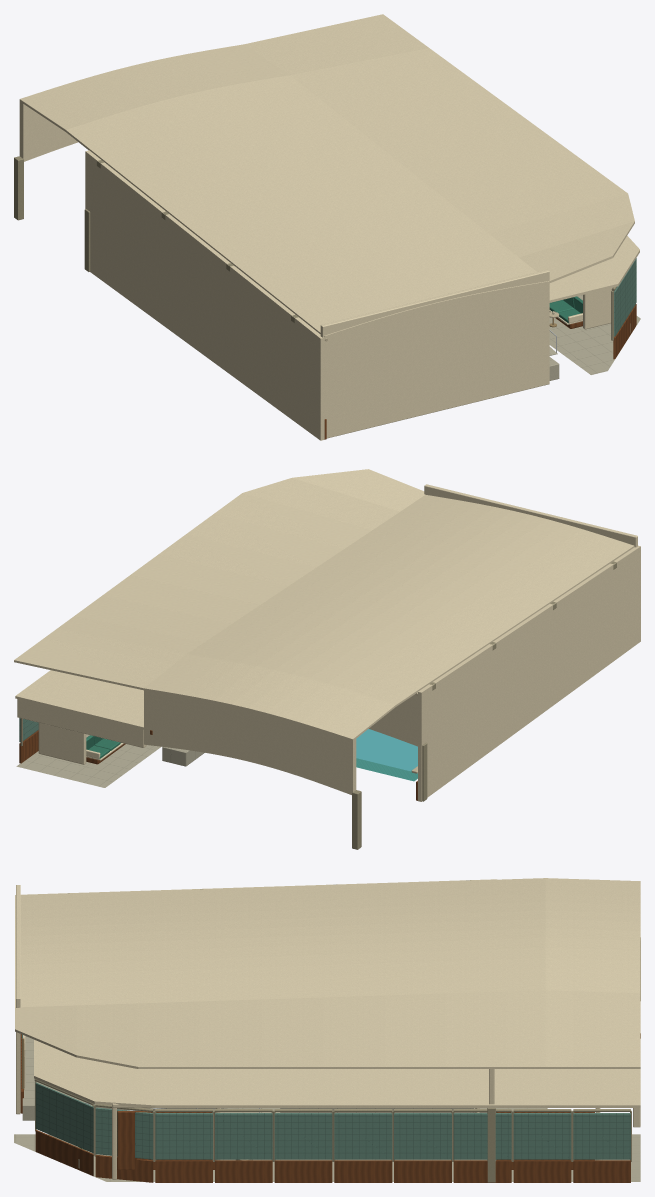
Rendered from FRESH_SELECTED_REEXPORT008.glb.
The picture shows the model from 3 angles, top to bottom: view 1: azimuth 30°, elevation 25°; view 2: azimuth 150°, elevation 25°; view 3: azimuth 270°, elevation 25°; orthographic projection. The views are drawn at different scales.
Visible parts, largest first — view 1: G6_TIDAL__north_room_return, G6_TIDAL__west_room_return_0, G6_TIDAL__vault_infill_0, G6_TIDAL__vault_infill_3, G6_TIDAL__vault_infill_5, G6_TIDAL__vault_infill_1, G6_TIDAL__vault_infill_4, G6_TIDAL__vault_infill_6, G6_TIDAL__vault_infill_2, G6_TIDAL__vault_infill_8, G6_TIDAL__west_room_return_1, G6_TIDAL__west_room_return_3 (+21 smaller); view 2: G6_TIDAL__central_foyer_exit_spandrel, G6_TIDAL__vault_infill_8, G6_TIDAL__west_room_return_0, G6_TIDAL__west_room_return_1, G6_TIDAL__west_room_return_2, G6_TIDAL__vault_infill_5, G6_TIDAL__vault_infill_0, G6_TIDAL__vault_infill_4, G6_TIDAL__vault_infill_1, G6_TIDAL__vault_infill_3, G6_TIDAL__vault_infill_6, G6_TIDAL__vault_infill_2 (+26 smaller); view 3: G6_TIDAL__vault_infill_8, G6_TIDAL__vault_infill_1, G6_TIDAL__vault_infill_6, G6_TIDAL__vault_infill_4, G6_TIDAL__vault_infill_2, G6_TIDAL__vault_infill_5, G6_TIDAL__vault_infill_0, G6_TIDAL__vault_infill_3, G6_TIDAL__vault_infill_7, G6_TIDAL__east_roof_infill_8, G6_TIDAL__east_roof_infill_0, G6_TIDAL__east_roof_infill_1 (+46 smaller).
Boxes of the visible parts, x1,y1,x2,y2 form: G6_TIDAL__north_room_return: (320, 269, 549, 438); G6_TIDAL__west_room_return_0: (85, 150, 152, 314); G6_TIDAL__vault_infill_0: (84, 90, 337, 169); G6_TIDAL__vault_infill_3: (174, 162, 427, 241); G6_TIDAL__vault_infill_5: (234, 209, 488, 289); G6_TIDAL__vault_infill_1: (114, 114, 368, 193); G6_TIDAL__vault_infill_4: (204, 185, 458, 265); G6_TIDAL__vault_infill_6: (264, 233, 518, 313); G6_TIDAL__vault_infill_2: (144, 138, 398, 217); G6_TIDAL__vault_infill_8: (19, 44, 275, 122); G6_TIDAL__west_room_return_1: (148, 201, 209, 356); G6_TIDAL__west_room_return_3: (263, 292, 324, 440); G6_TIDAL__central_foyer_exit_spandrel: (144, 689, 356, 794); G6_TIDAL__vault_infill_8: (144, 664, 382, 740); G6_TIDAL__west_room_return_0: (418, 652, 480, 801); G6_TIDAL__west_room_return_1: (477, 617, 533, 758); G6_TIDAL__west_room_return_2: (530, 581, 587, 719); G6_TIDAL__vault_infill_5: (345, 530, 581, 600); G6_TIDAL__vault_infill_0: (204, 624, 441, 694); G6_TIDAL__vault_infill_4: (317, 549, 553, 619); G6_TIDAL__vault_infill_1: (232, 605, 469, 675); G6_TIDAL__vault_infill_3: (288, 567, 525, 638); G6_TIDAL__vault_infill_6: (373, 511, 609, 582); G6_TIDAL__vault_infill_2: (261, 586, 497, 657); G6_TIDAL__vault_infill_8: (574, 879, 640, 993); G6_TIDAL__vault_infill_1: (384, 881, 446, 995); G6_TIDAL__vault_infill_6: (76, 891, 138, 1005); G6_TIDAL__vault_infill_4: (199, 887, 261, 1001); G6_TIDAL__vault_infill_2: (323, 883, 384, 997); G6_TIDAL__vault_infill_5: (138, 889, 199, 1003); G6_TIDAL__vault_infill_0: (446, 879, 507, 993); G6_TIDAL__vault_infill_3: (261, 885, 322, 999); G6_TIDAL__vault_infill_7: (15, 893, 76, 1007); G6_TIDAL__east_roof_infill_8: (574, 991, 640, 1068); G6_TIDAL__east_roof_infill_0: (446, 991, 507, 1068); G6_TIDAL__east_roof_infill_1: (384, 993, 446, 1068).
Bounding box in the file's own units: 23.05 × 7.54 × 33.07.
15 materials, 8 textured.
